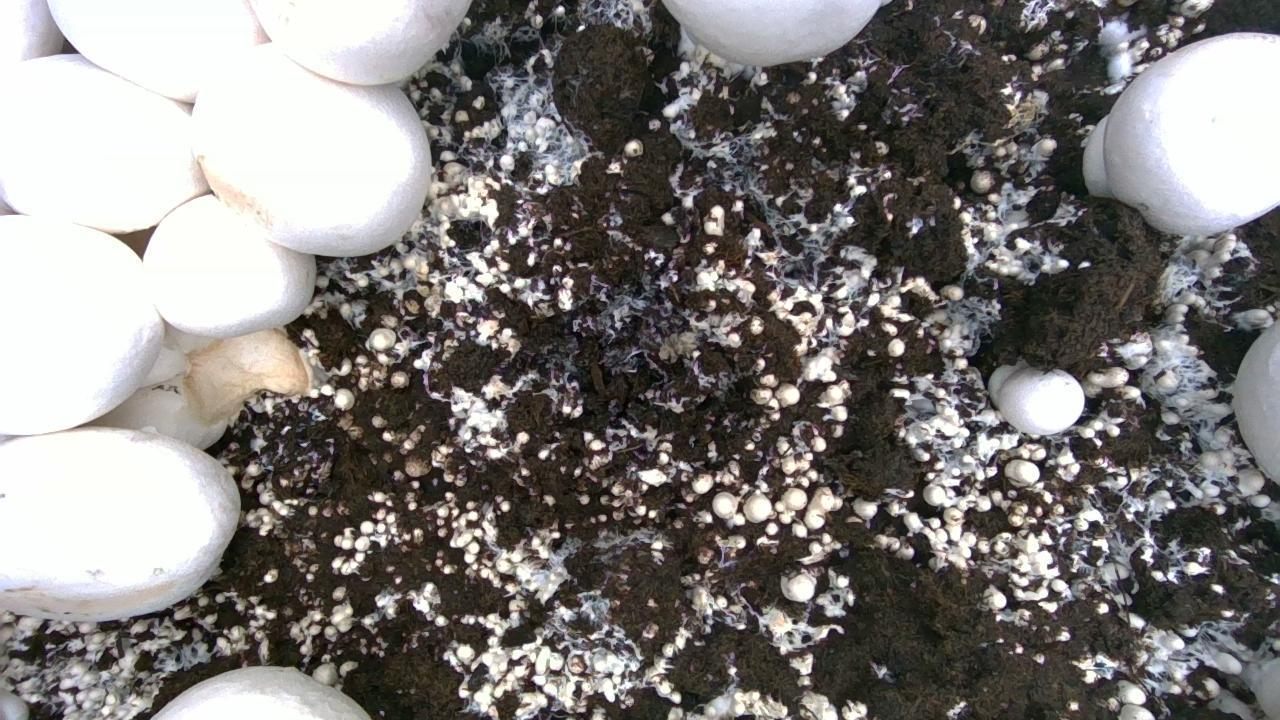WB: (192, 45, 430, 255), (0, 427, 239, 620), (0, 54, 208, 232), (0, 215, 163, 434), (1107, 31, 1280, 234), (144, 195, 315, 337), (47, 0, 268, 100), (251, 0, 470, 84), (663, 0, 880, 66), (152, 666, 369, 719), (1232, 320, 1279, 483), (998, 367, 1087, 434)
